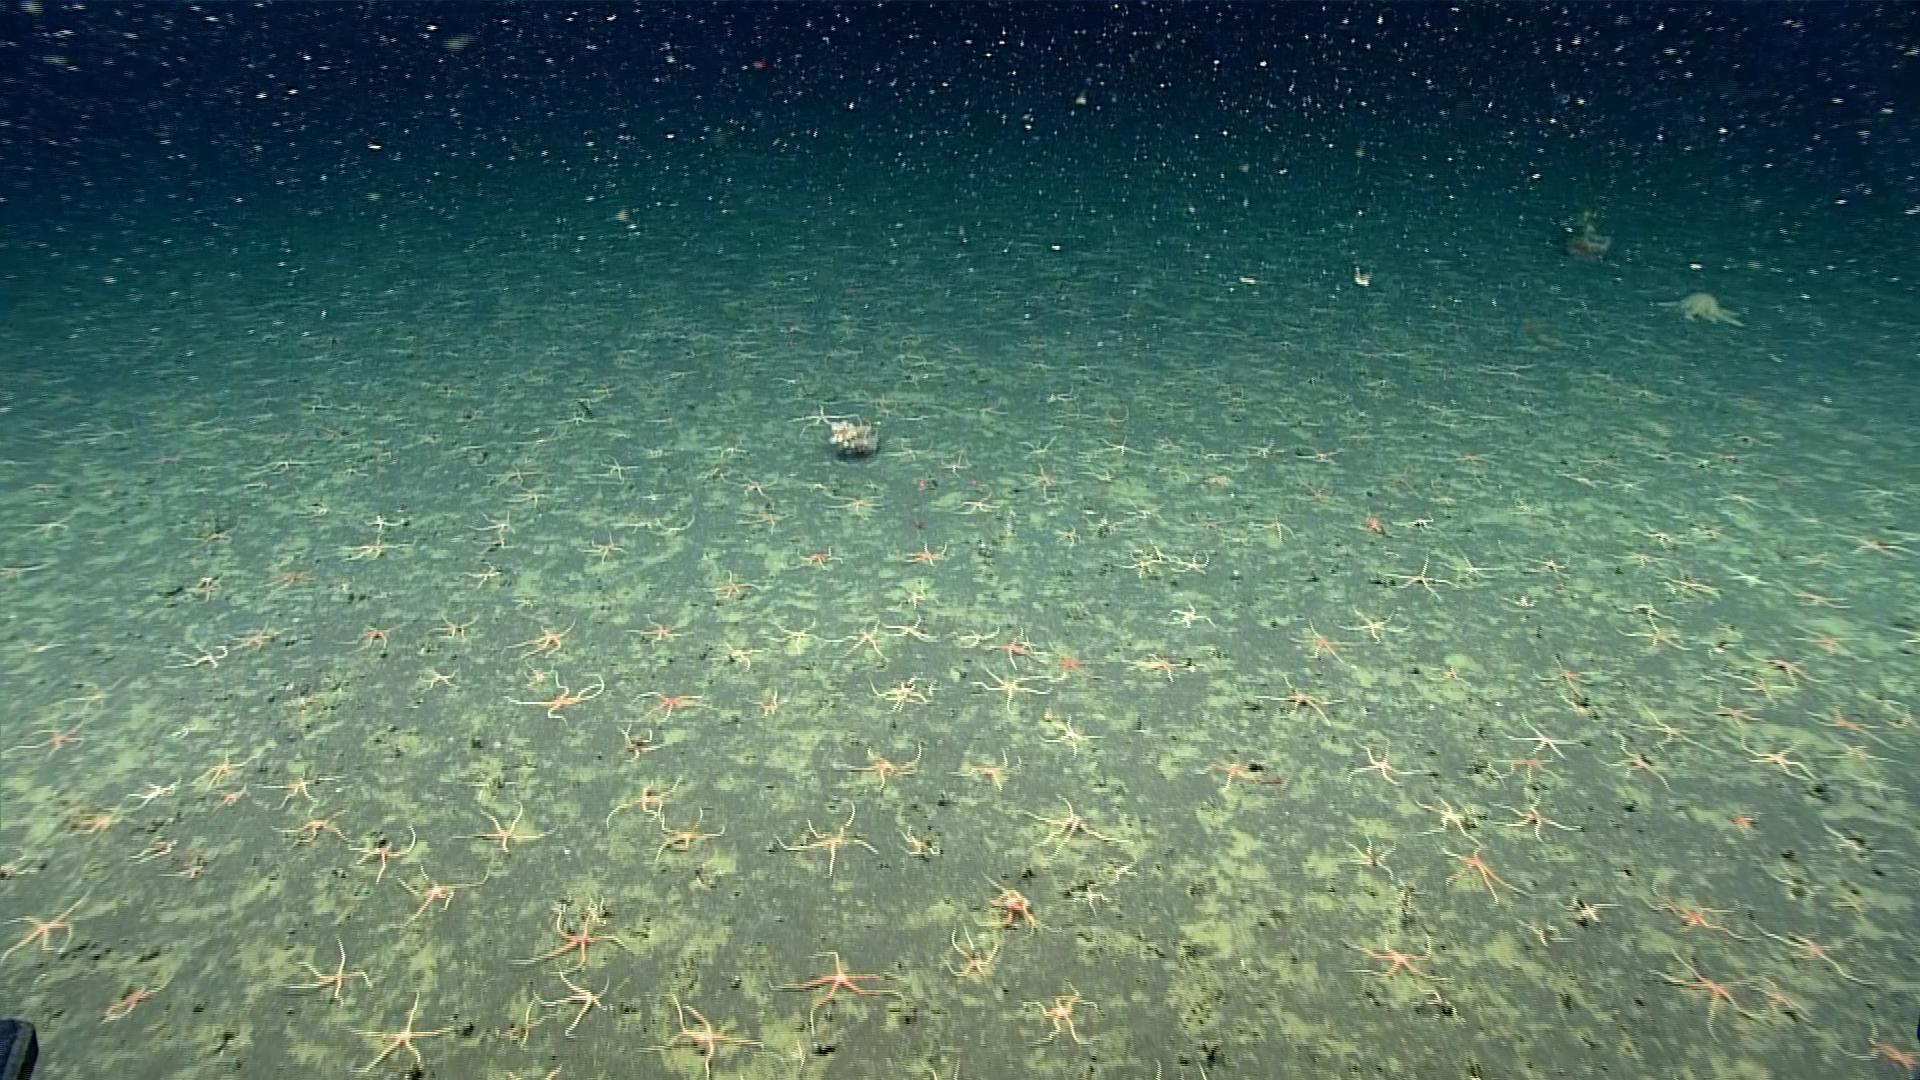brittle_sea_star: (1650, 943, 1775, 1044), (778, 947, 910, 1039), (640, 993, 765, 1079), (1001, 793, 1138, 864), (1622, 878, 1760, 945), (0, 886, 100, 971), (343, 989, 459, 1062), (504, 907, 625, 976), (1754, 918, 1871, 988), (775, 802, 878, 878), (1439, 841, 1548, 910), (389, 860, 497, 928), (282, 939, 378, 1007), (502, 665, 605, 725), (1348, 928, 1441, 994), (443, 802, 554, 857), (1017, 984, 1105, 1052), (533, 965, 613, 1038), (1826, 1019, 1919, 1079), (1254, 674, 1346, 731), (1617, 704, 1718, 754), (832, 740, 922, 796), (1735, 728, 1817, 790), (1594, 729, 1676, 791), (1489, 786, 1581, 840), (90, 972, 175, 1030), (934, 924, 1011, 986), (651, 802, 729, 862), (343, 823, 415, 887), (965, 662, 1059, 711), (269, 800, 355, 853), (1344, 740, 1423, 793), (502, 615, 582, 666), (1503, 711, 1584, 760), (1035, 709, 1108, 764), (604, 777, 679, 828), (1381, 553, 1456, 601), (262, 765, 343, 810), (1611, 609, 1693, 653), (1817, 733, 1896, 778), (1412, 790, 1482, 839), (1287, 621, 1357, 670), (982, 877, 1044, 931), (626, 690, 705, 732), (947, 746, 1014, 794), (121, 770, 190, 816), (1693, 691, 1764, 735), (1724, 666, 1796, 708), (1338, 604, 1408, 647), (1188, 753, 1265, 793), (865, 674, 942, 712), (73, 651, 138, 691), (1535, 655, 1593, 700), (831, 620, 886, 666), (1791, 624, 1865, 658), (191, 748, 255, 787), (1122, 649, 1187, 684), (59, 802, 125, 836), (613, 721, 669, 761), (120, 832, 186, 865), (332, 621, 397, 654), (621, 618, 684, 651), (162, 642, 229, 673), (343, 531, 409, 562), (1662, 568, 1724, 600), (762, 620, 816, 655), (1846, 767, 1900, 803), (425, 613, 479, 646), (702, 574, 760, 604), (410, 665, 463, 698), (231, 609, 291, 637), (1164, 603, 1217, 634), (473, 506, 520, 542), (994, 633, 1039, 669), (885, 613, 936, 644), (576, 533, 625, 564), (215, 782, 257, 818), (790, 543, 844, 571), (1166, 549, 1213, 579), (160, 860, 212, 886), (1116, 551, 1163, 580), (1526, 550, 1571, 579), (274, 551, 326, 576), (903, 541, 948, 568), (951, 626, 1002, 650), (1055, 524, 1083, 549)
